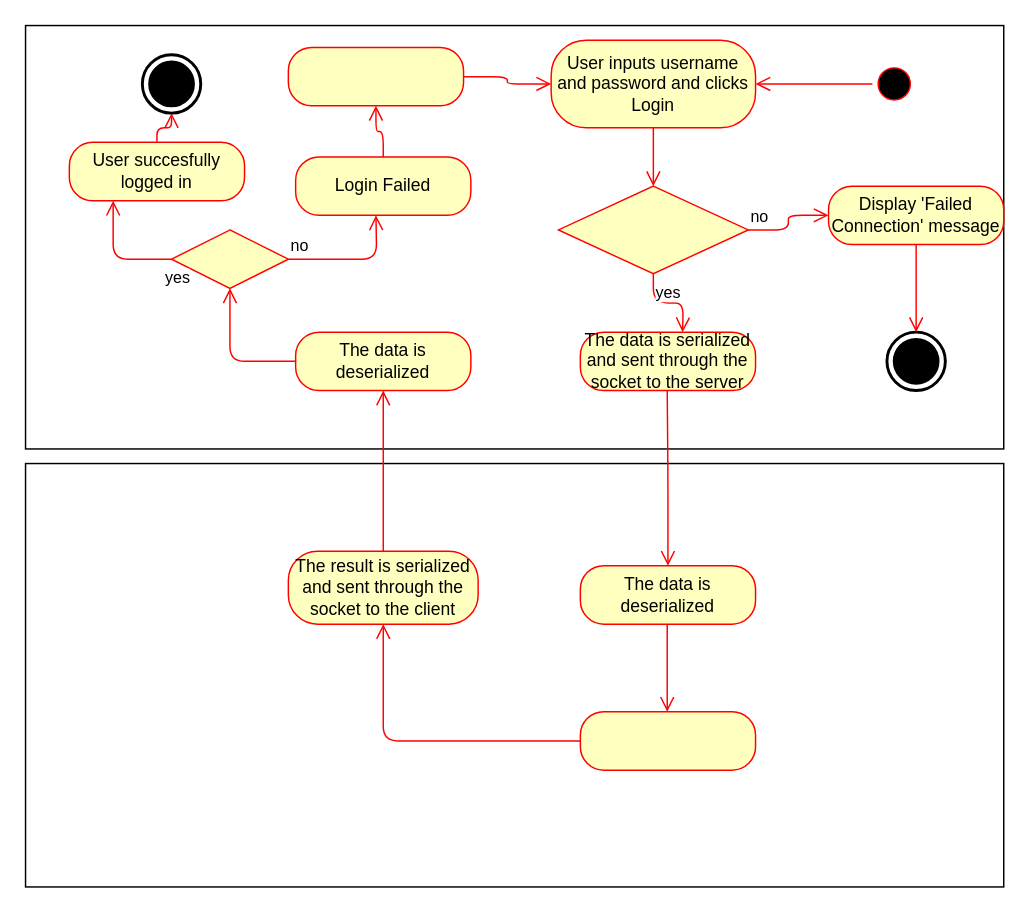
Some shapes in this 1029 by 913 pixel diagram are drawn without their labels. The shapes that lost their labels are listed below. From the top down, each one's box as (x1, y1, x2, y2) in pixels, then its label:
(287, 46, 464, 106): Display 'Login Failed' message
(557, 185, 748, 274): Valid connection and socket
(170, 228, 288, 288): Valid user
(579, 710, 756, 770): The DB is being querried for the user
